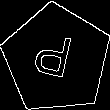P_S: (33, 30, 80, 88)
